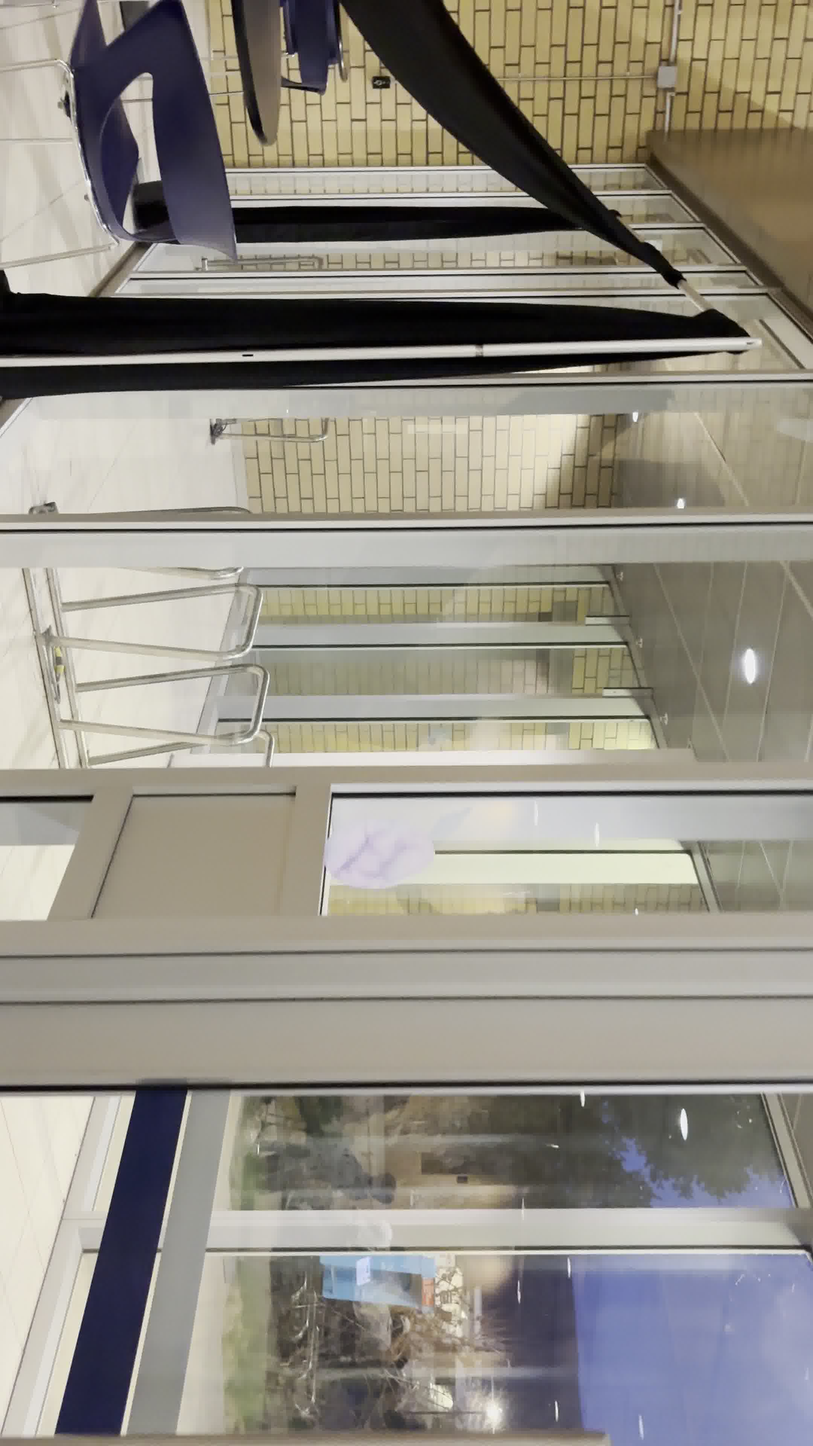Target: (321, 816, 437, 891)
